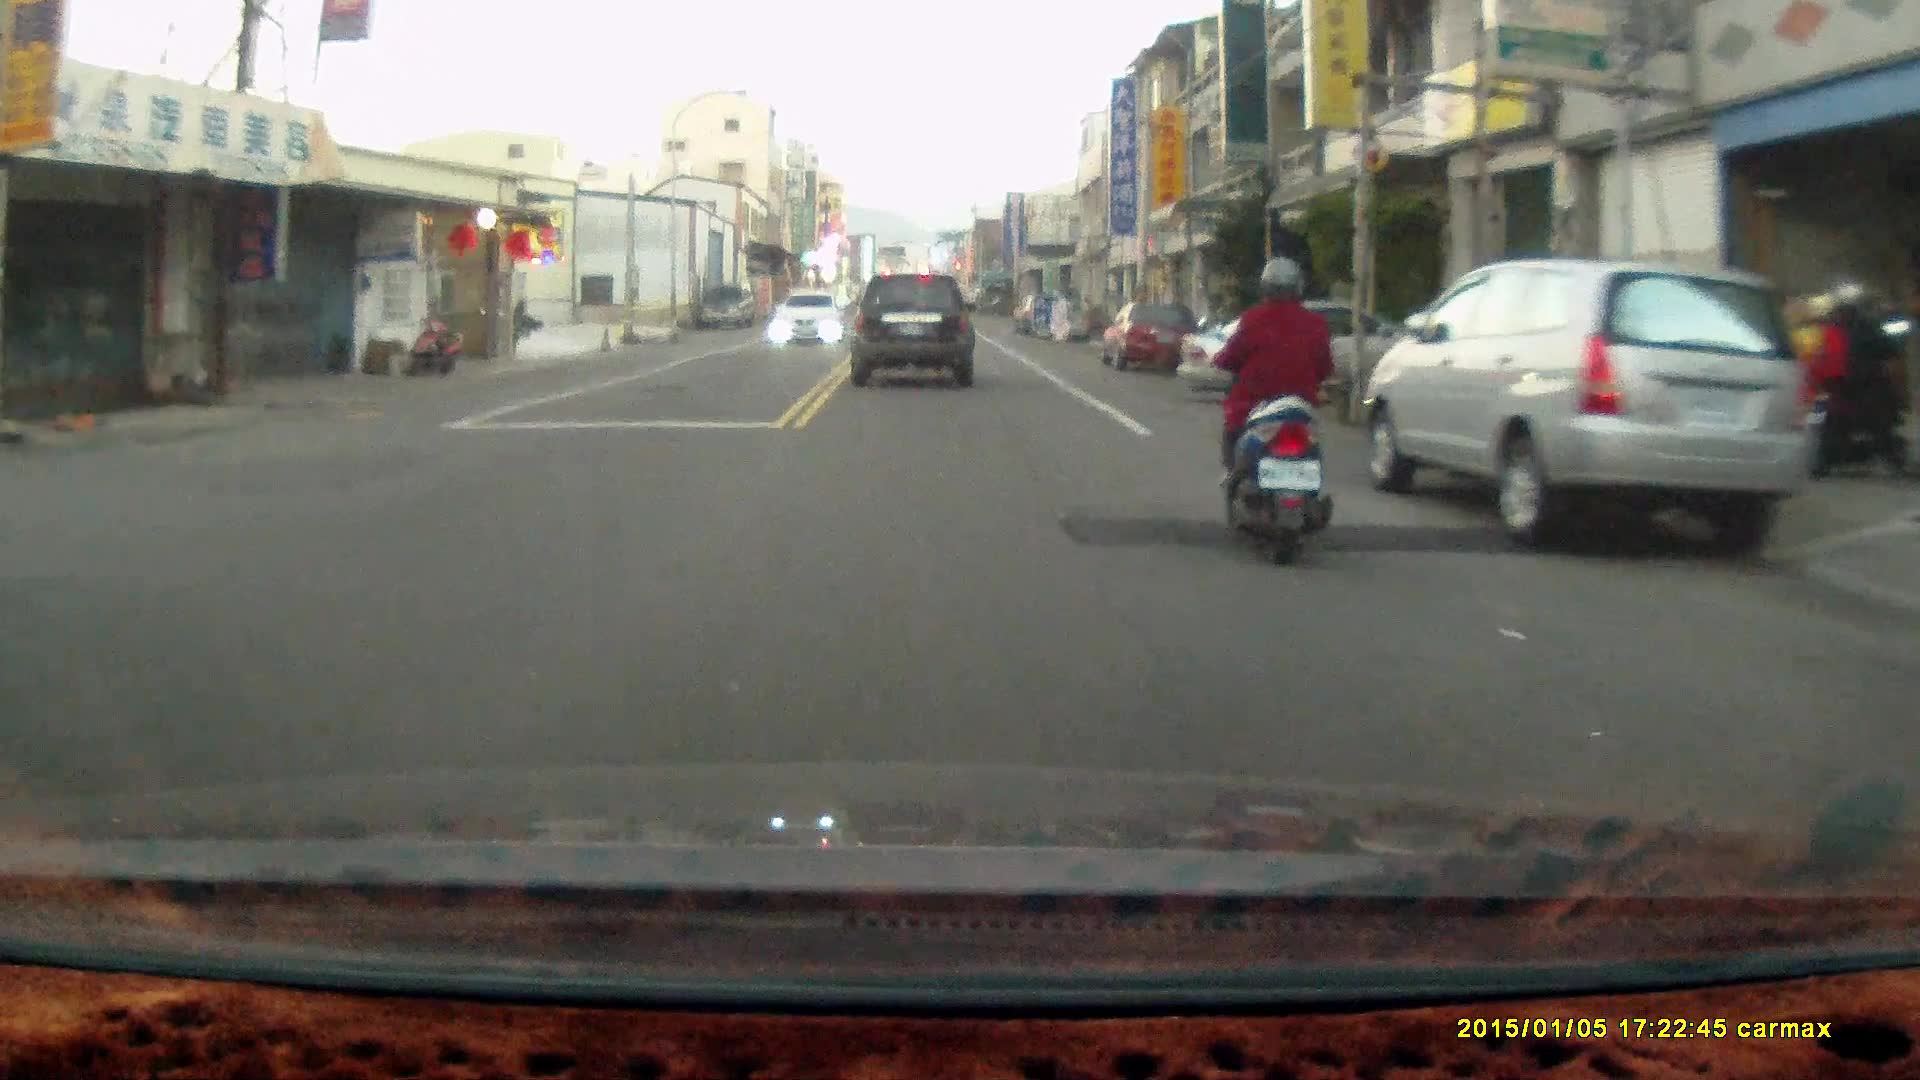rider: (1193, 252, 1335, 565), (1789, 283, 1908, 483)
vehicle: (1366, 258, 1816, 550), (1178, 299, 1405, 402), (850, 273, 980, 396), (1100, 301, 1197, 374), (771, 291, 843, 345), (699, 285, 758, 330)
